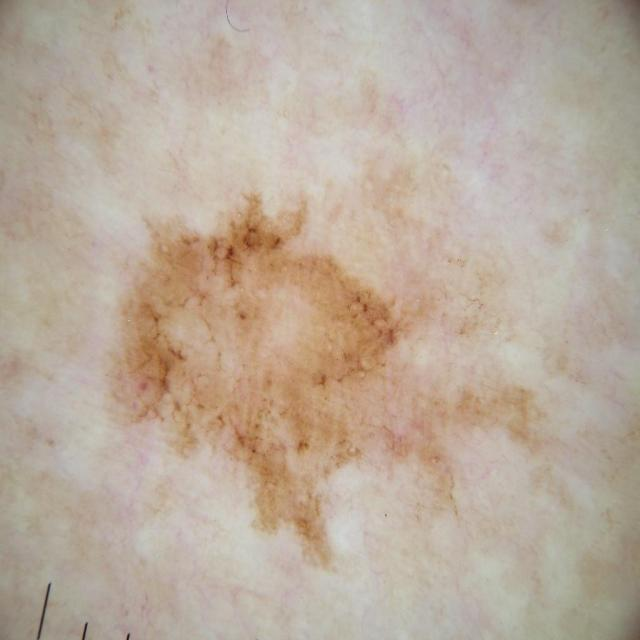Skin-Cancer Melanoma: (88, 114, 603, 631)
